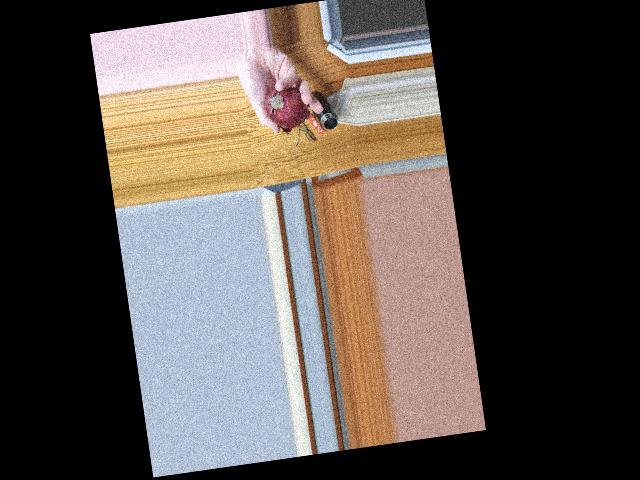onion: (258, 80, 306, 128)
